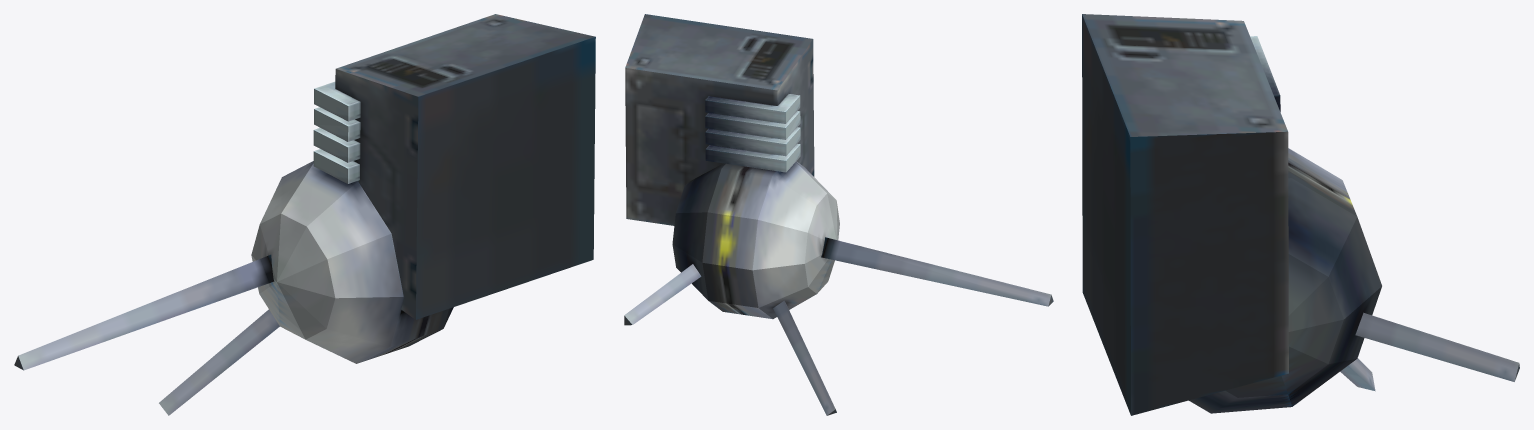
The model's file is TAAIRPACK.bgf.obj.
3 views of the same model, side by side, from view 1: azimuth 30°, elevation 25°; view 2: azimuth 150°, elevation 25°; view 3: azimuth 270°, elevation 25° (orthographic). The views are drawn at different scales.
Visible parts, largest first — view 1: DUMMY; view 2: DUMMY; view 3: DUMMY.
Part boxes in pixels (bbox=[...]): DUMMY: bbox=[14, 14, 595, 415]; DUMMY: bbox=[624, 14, 1053, 415]; DUMMY: bbox=[1082, 14, 1519, 415].
Size of the model in its own units: 1.19 by 0.755 by 0.652.
Materials: 1 (1 with a texture image).
